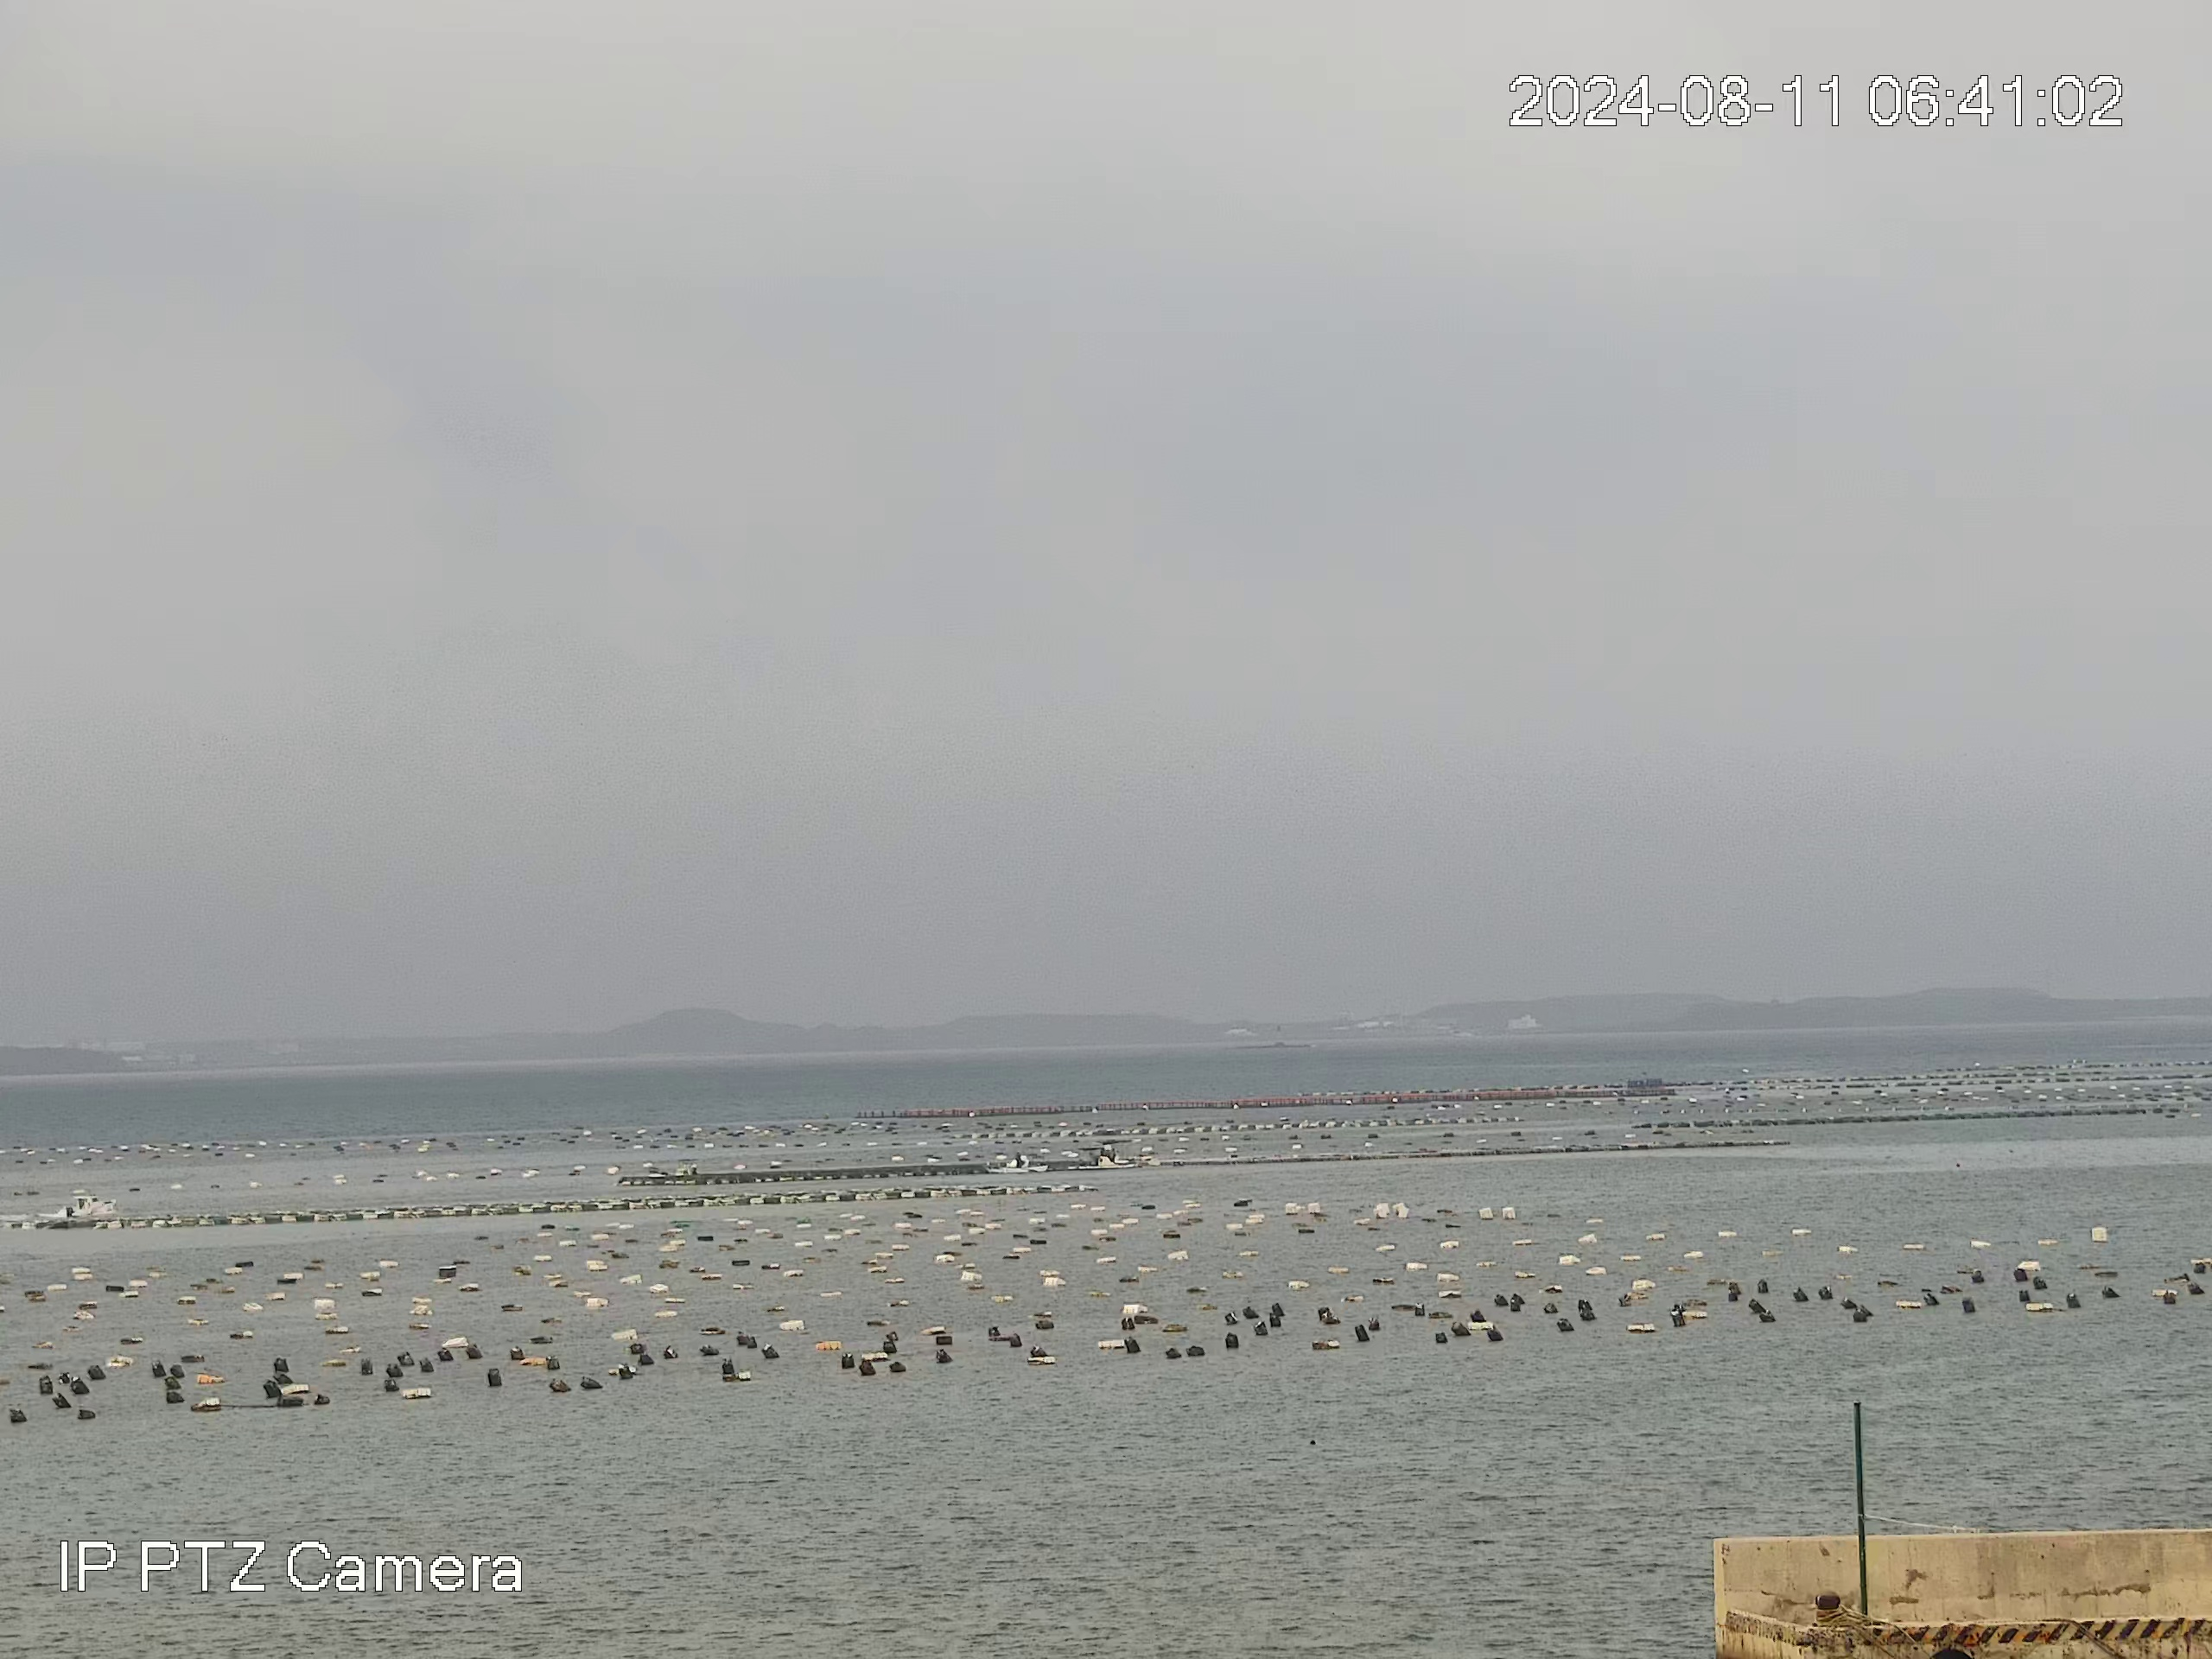boat: (57, 1187, 118, 1218), (1061, 1145, 1137, 1169), (982, 1152, 1050, 1173)
